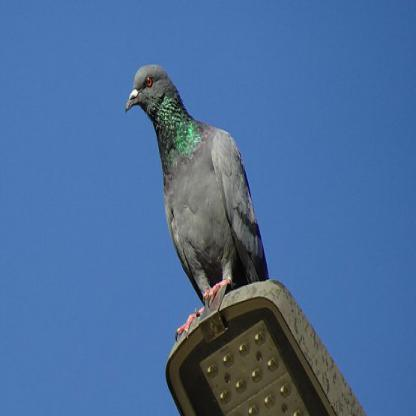Flying Rat: (127, 63, 274, 330)
